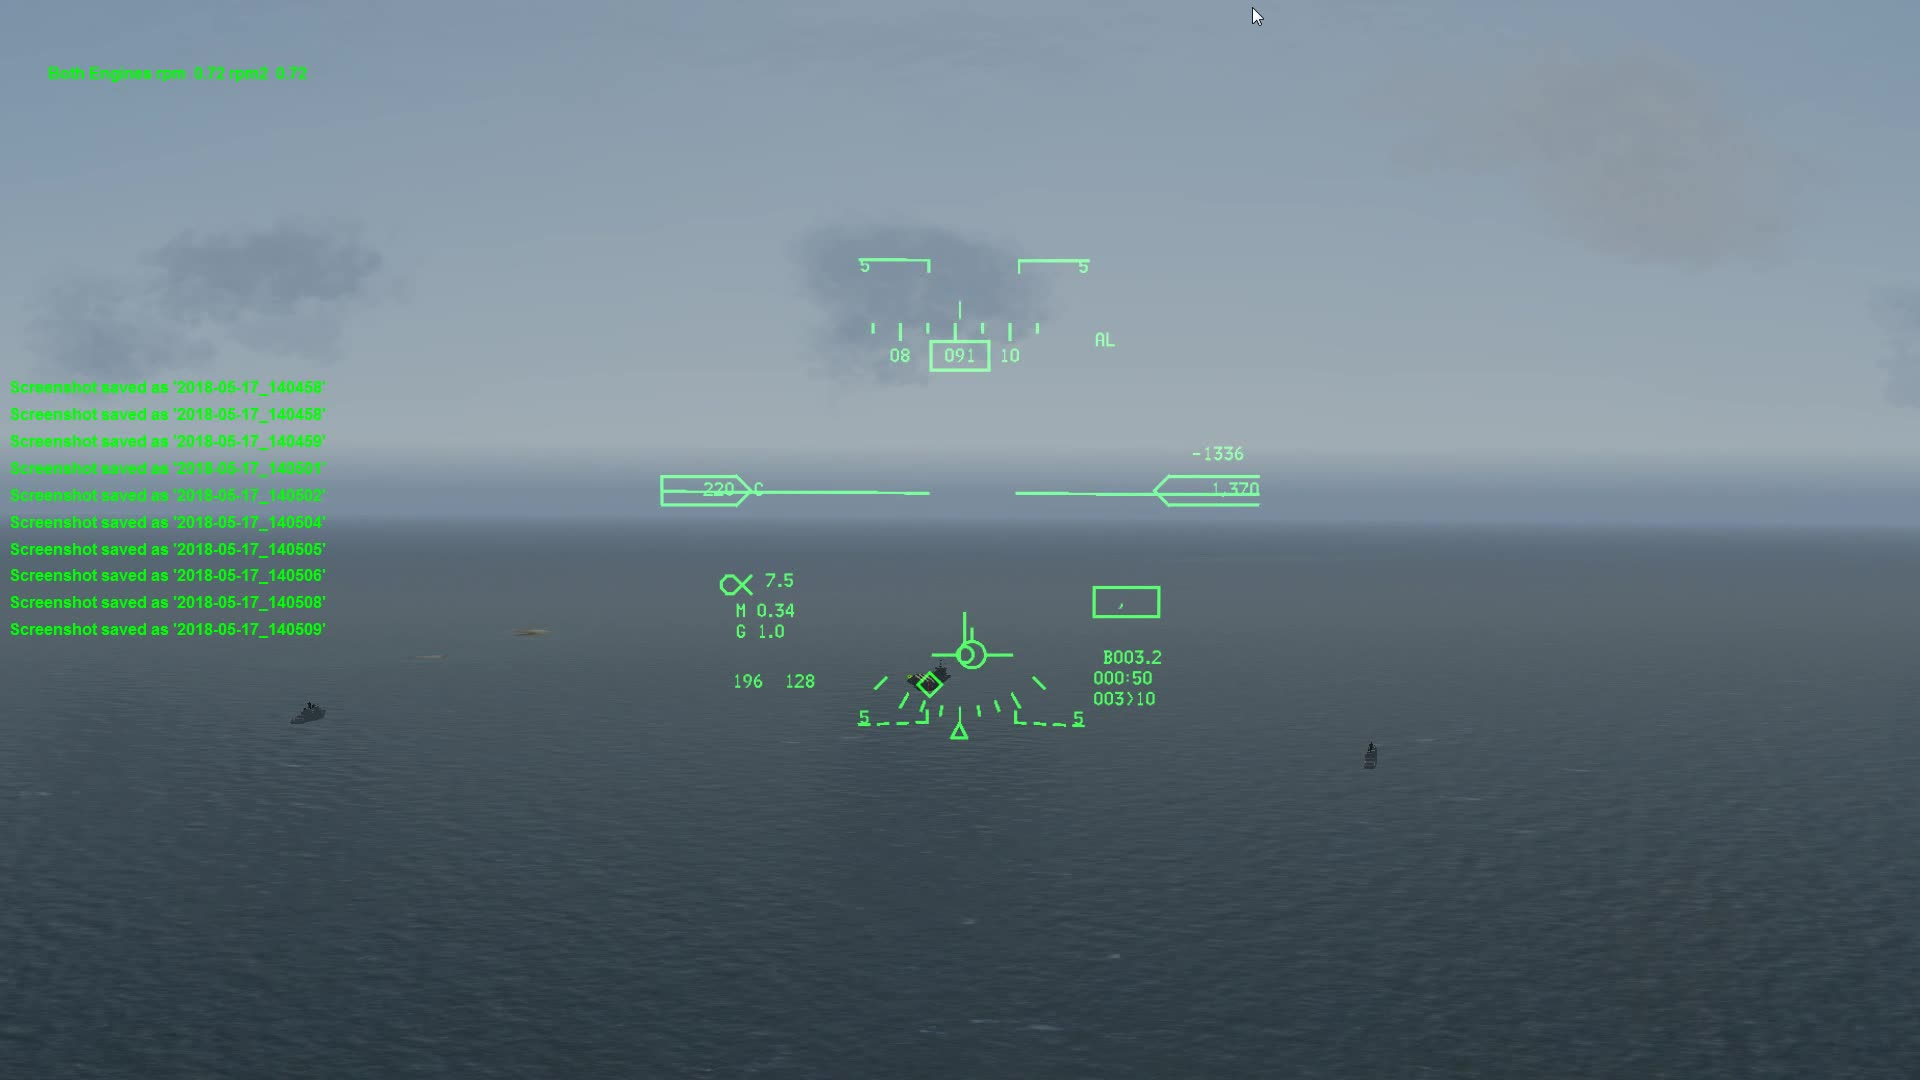speed vector: (920, 604, 1022, 669)
